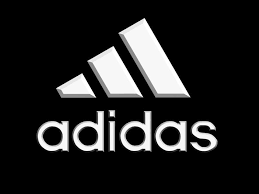adidas: (36, 17, 218, 155)
